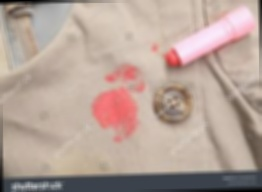lipstick: (91, 76, 143, 148), (101, 64, 147, 96), (146, 44, 160, 56)
